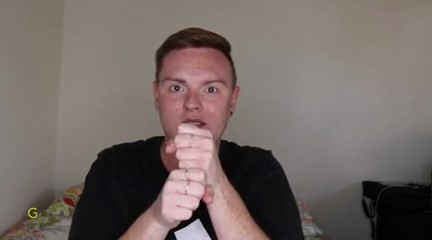G: (153, 122, 222, 226)
